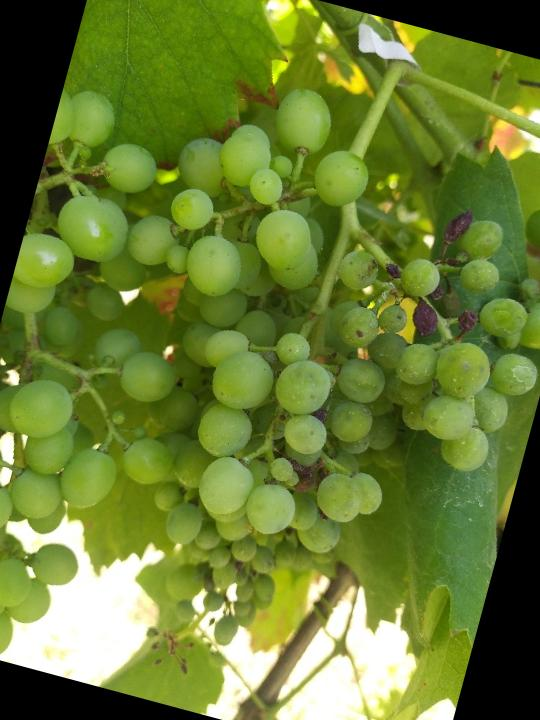grape: (51, 49, 540, 626)
